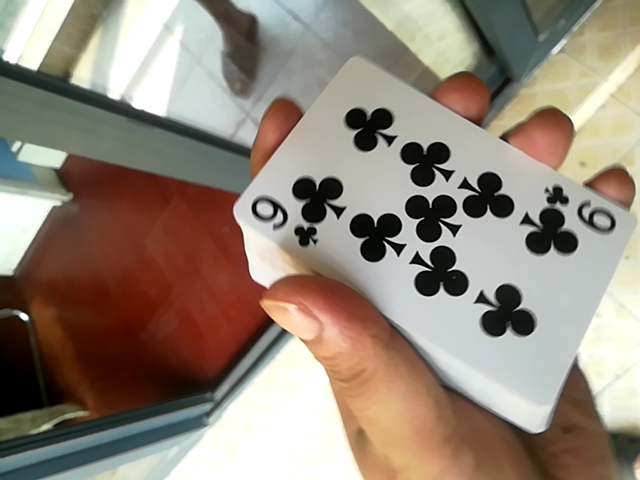mh 9: (185, 11, 636, 404)
